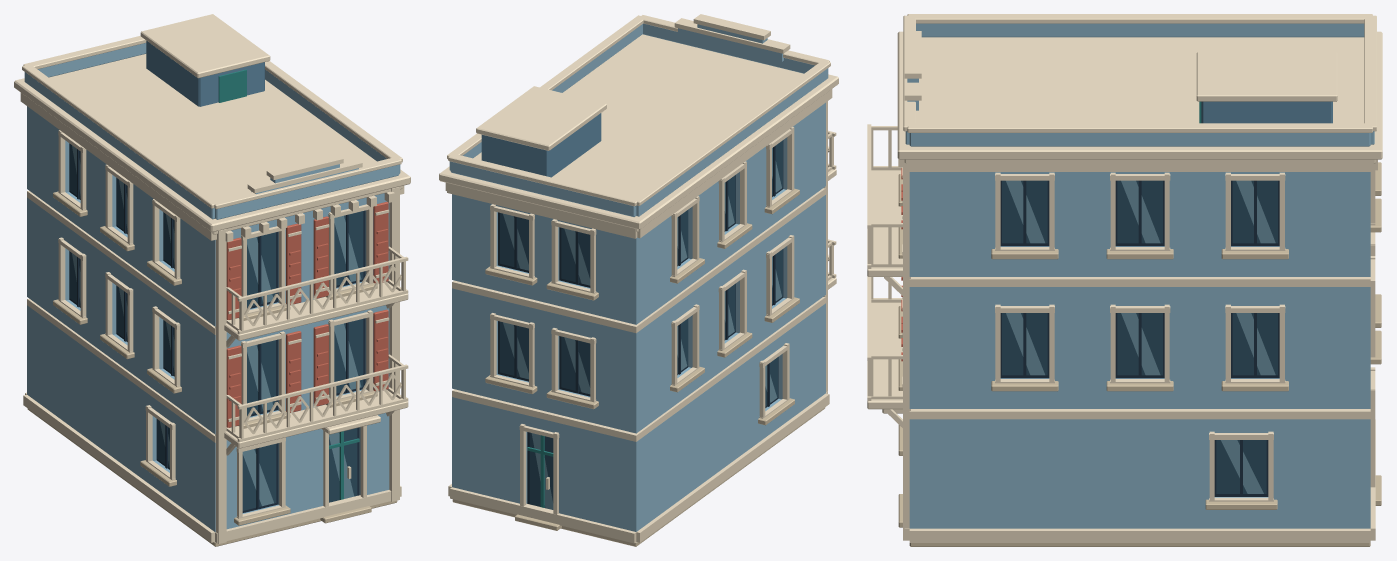
The model's file is blue_townhouse.glb.
3 views of the same model, side by side, from view 1: azimuth 30°, elevation 25°; view 2: azimuth 150°, elevation 25°; view 3: azimuth 270°, elevation 25° (orthographic). The views are drawn at different scales.
Parts seen in each view (by area): view 1: BlueTownhouse_StaticMesh; view 2: BlueTownhouse_StaticMesh; view 3: BlueTownhouse_StaticMesh.
Part boxes in pixels (<box>): BlueTownhouse_StaticMesh: <box>14,14,410,546</box>; BlueTownhouse_StaticMesh: <box>439,14,838,546</box>; BlueTownhouse_StaticMesh: <box>867,14,1382,546</box>.
Bounding box in the file's own units: 6.02 × 10.47 × 10.97.
